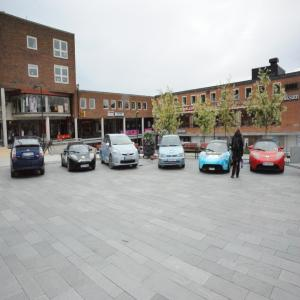Vehicle-registration-plate: (81, 164, 90, 169), (24, 153, 34, 157), (264, 163, 275, 166), (168, 159, 177, 162), (125, 157, 133, 160), (210, 168, 215, 171)
